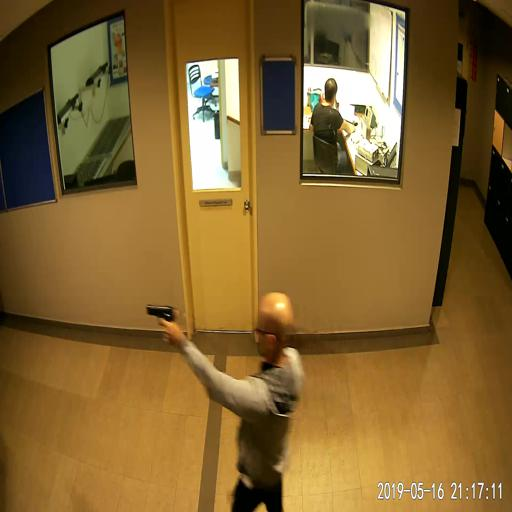pistol: (145, 304, 175, 343)
